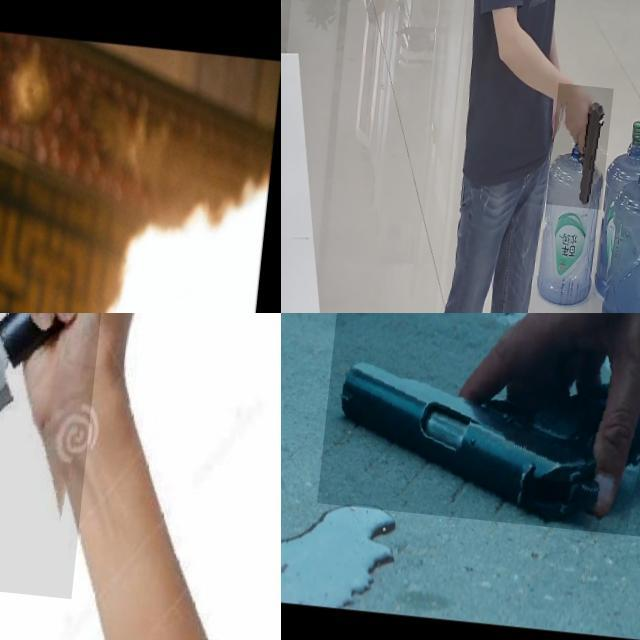-: (0, 313, 151, 590)
gun-knife-thesis - v11 Yolov5 augmented: (327, 313, 640, 525), (556, 76, 621, 200)
